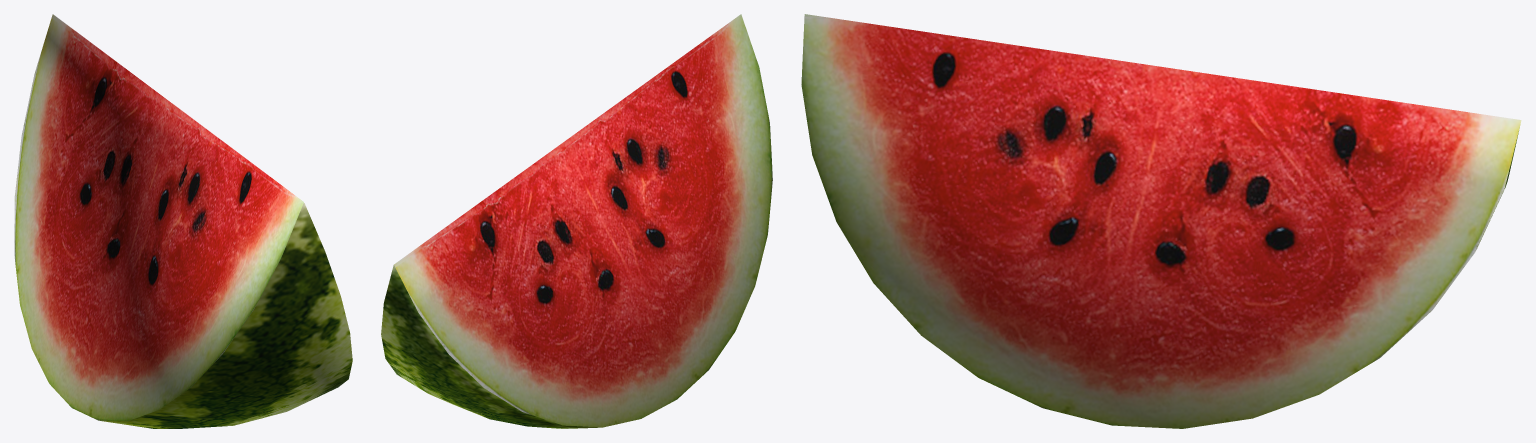
Rendered from watermelon.glb.
3 renders of one model, left to right at view 1: azimuth 30°, elevation 25°; view 2: azimuth 150°, elevation 25°; view 3: azimuth 270°, elevation 25°, orthographic. The views are drawn at different scales.
Visible parts, largest first — view 1: Sphere.001; view 2: Sphere.001; view 3: Sphere.001.
Part boxes in pixels (box(x1,y1,x2,y2)): Sphere.001: box(14, 14, 352, 428); Sphere.001: box(381, 14, 772, 428); Sphere.001: box(801, 14, 1521, 428).
Size of the model in its own units: 226 by 313 by 564.
Materials: 1 (1 with a texture image).
